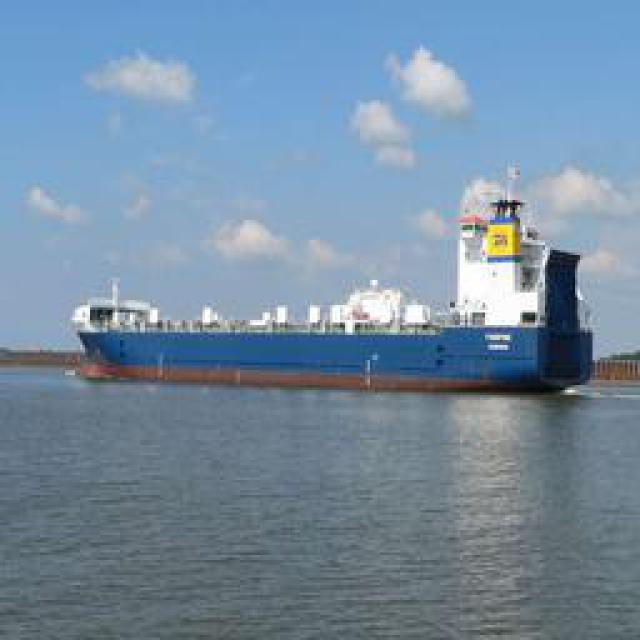Ship: (72, 239, 592, 392)
